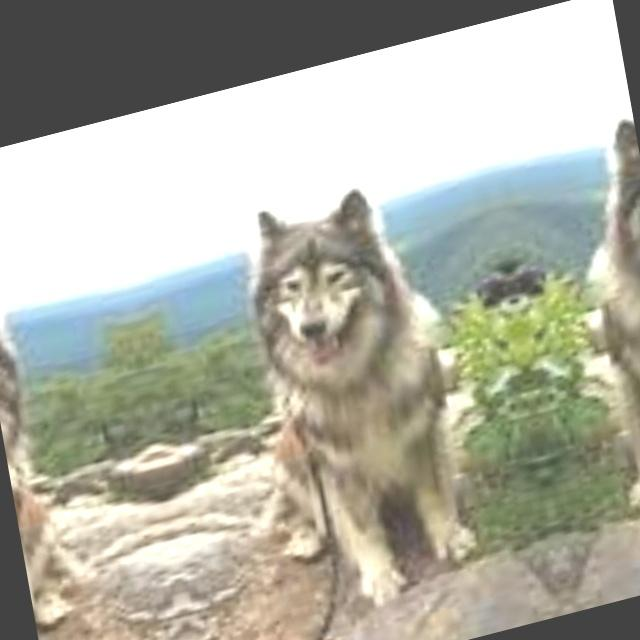dog: (151, 158, 513, 640), (0, 249, 163, 640), (539, 108, 640, 564)
